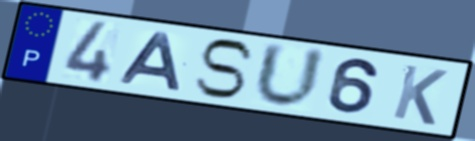4: (62, 20, 115, 85)
6: (326, 55, 383, 116)
A: (117, 31, 184, 93)
K: (389, 62, 451, 128)
S: (191, 37, 258, 101)
U: (251, 40, 329, 112)
